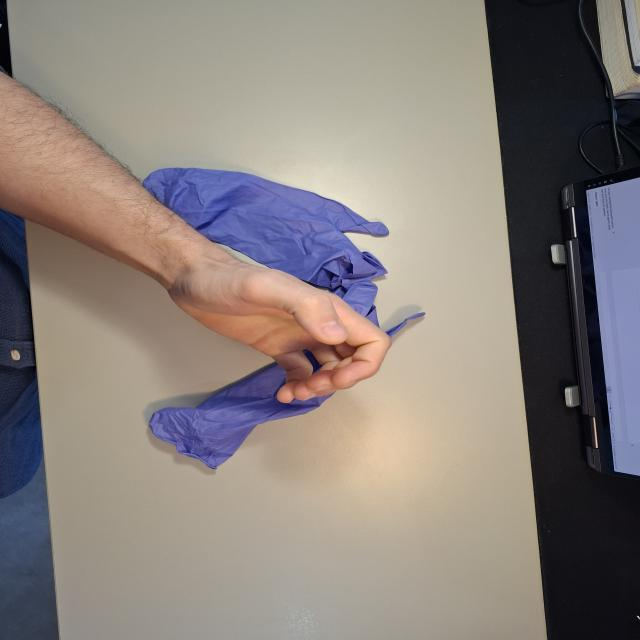glove_off: (161, 239, 395, 406)
